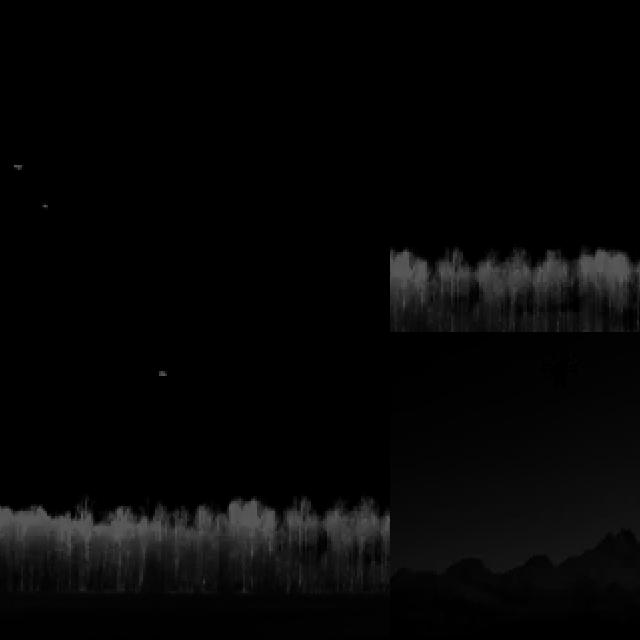0: (4, 155, 34, 183), (36, 198, 62, 220)
1: (149, 364, 181, 386)
drone: (536, 342, 584, 400)
